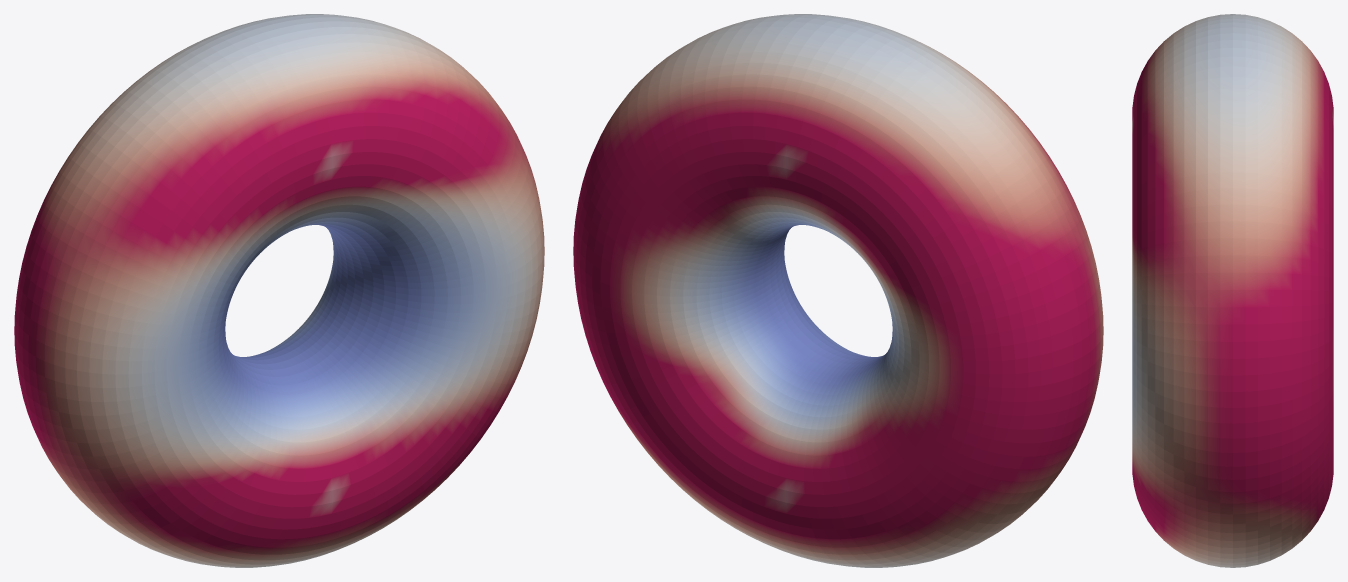
3 views of the same model, side by side, from view 1: azimuth 30°, elevation 25°; view 2: azimuth 150°, elevation 25°; view 3: azimuth 270°, elevation 25° (orthographic). The views are drawn at different scales.
Visible parts, largest first — view 1: world; view 2: world; view 3: world.
Boxes of the visible parts, <box> form: world: <box>14,14,544,567</box>; world: <box>573,14,1103,567</box>; world: <box>1132,14,1333,567</box>.
Bounding box in the file's own units: 23.07 × 23.07 × 8.38.
